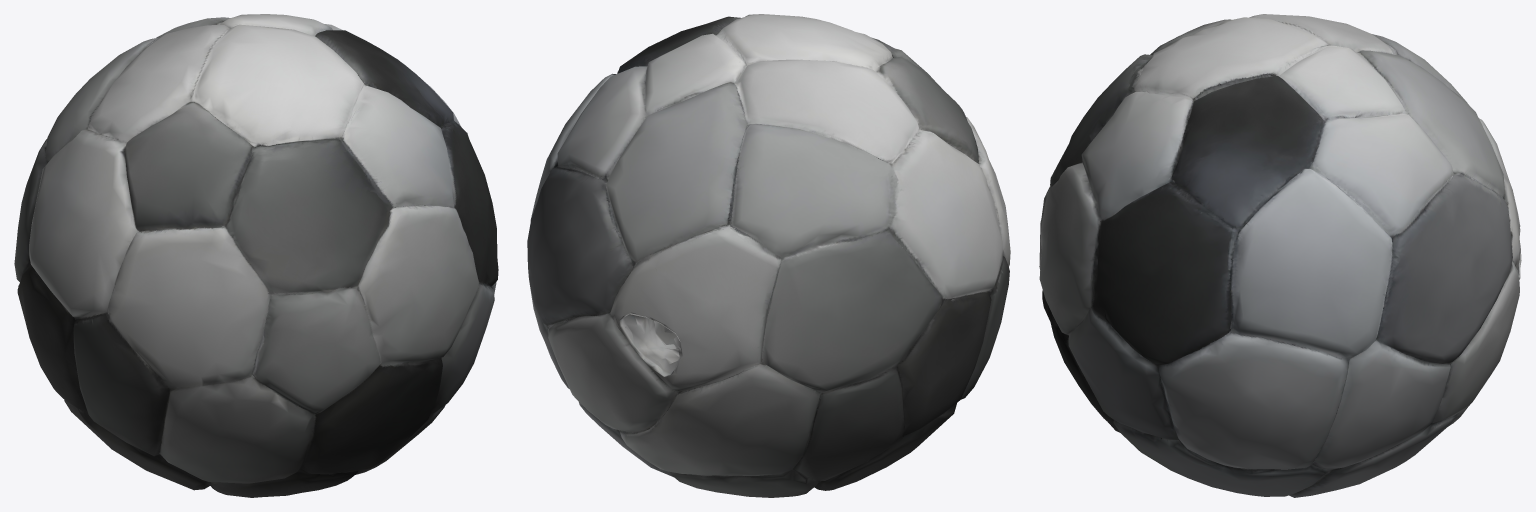
The model's file is ball-soccer.glb.
3 renders of one model, left to right at view 1: azimuth 30°, elevation 25°; view 2: azimuth 150°, elevation 25°; view 3: azimuth 270°, elevation 25°, orthographic.
Parts seen in each view (by area): view 1: tripo_node_1c78d927-b1b5-4ebb-8896-d294654e7e2a; view 2: tripo_node_1c78d927-b1b5-4ebb-8896-d294654e7e2a; view 3: tripo_node_1c78d927-b1b5-4ebb-8896-d294654e7e2a.
Boxes of the visible parts, left/top/right/bottom form: tripo_node_1c78d927-b1b5-4ebb-8896-d294654e7e2a: left=14, top=14, right=498, bottom=497; tripo_node_1c78d927-b1b5-4ebb-8896-d294654e7e2a: left=527, top=14, right=1010, bottom=497; tripo_node_1c78d927-b1b5-4ebb-8896-d294654e7e2a: left=1039, top=14, right=1521, bottom=497.
Bounding box in the file's own units: 0.9737 × 0.9806 × 0.9765.
1 material, 1 textured.
